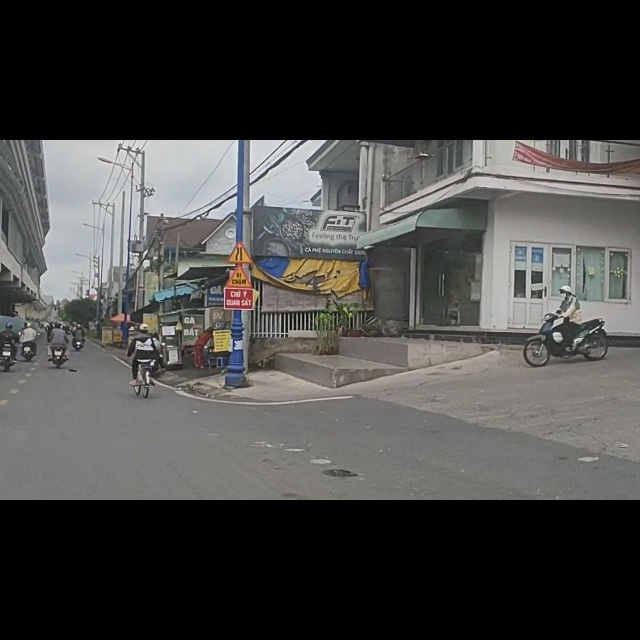Đi chậm: (224, 263, 253, 288)
Đường bị hẹp bên trái: (226, 241, 252, 263)
